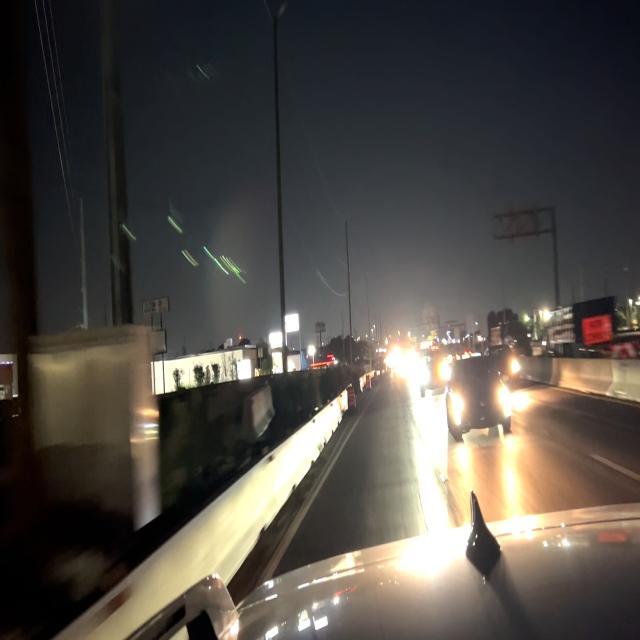back-of-sign: (488, 203, 561, 244)
